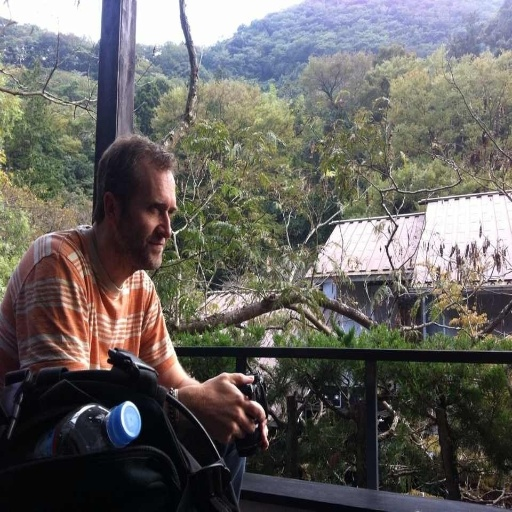hand: (166, 367, 278, 454), (250, 399, 269, 448)
